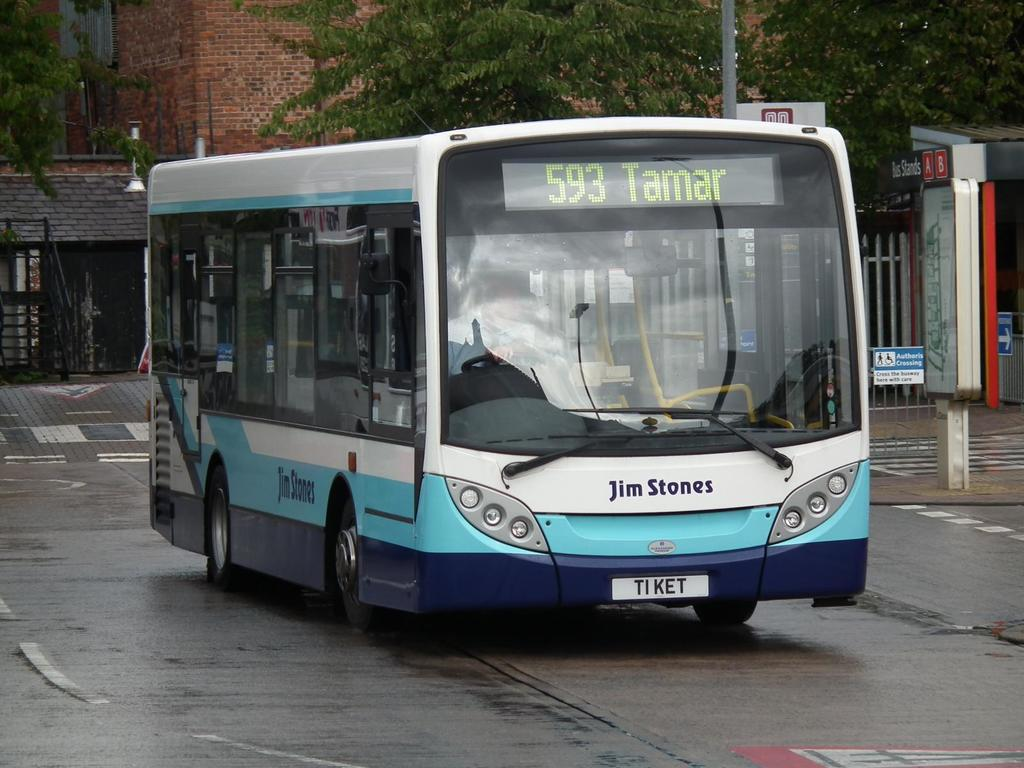Bus: (146, 116, 869, 632)
